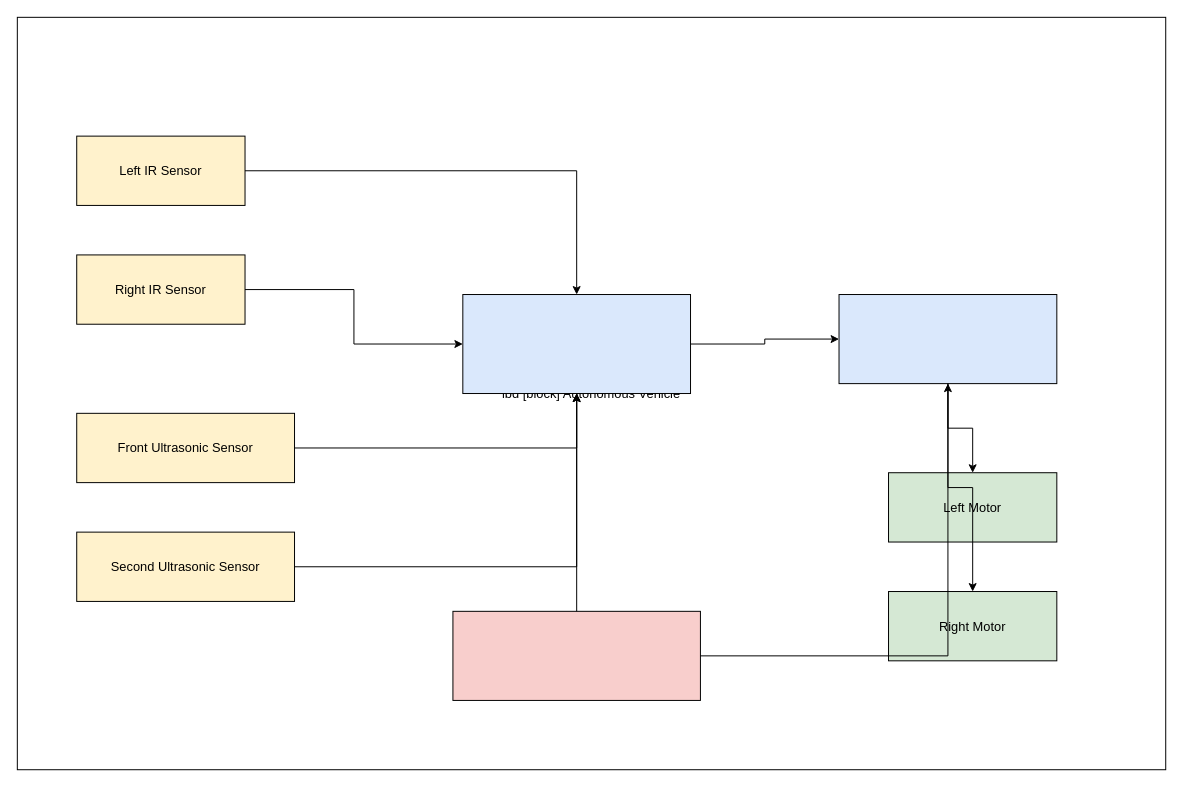
Some shapes in this 1183 by 787 pixel diagram are drawn without their labels. Each missing label, with the box of its shape:
Arduino (Control Unit): (462, 294, 691, 394)
Battery (Power Supply): (452, 610, 700, 700)
Motor Control Unit: (838, 294, 1057, 384)
